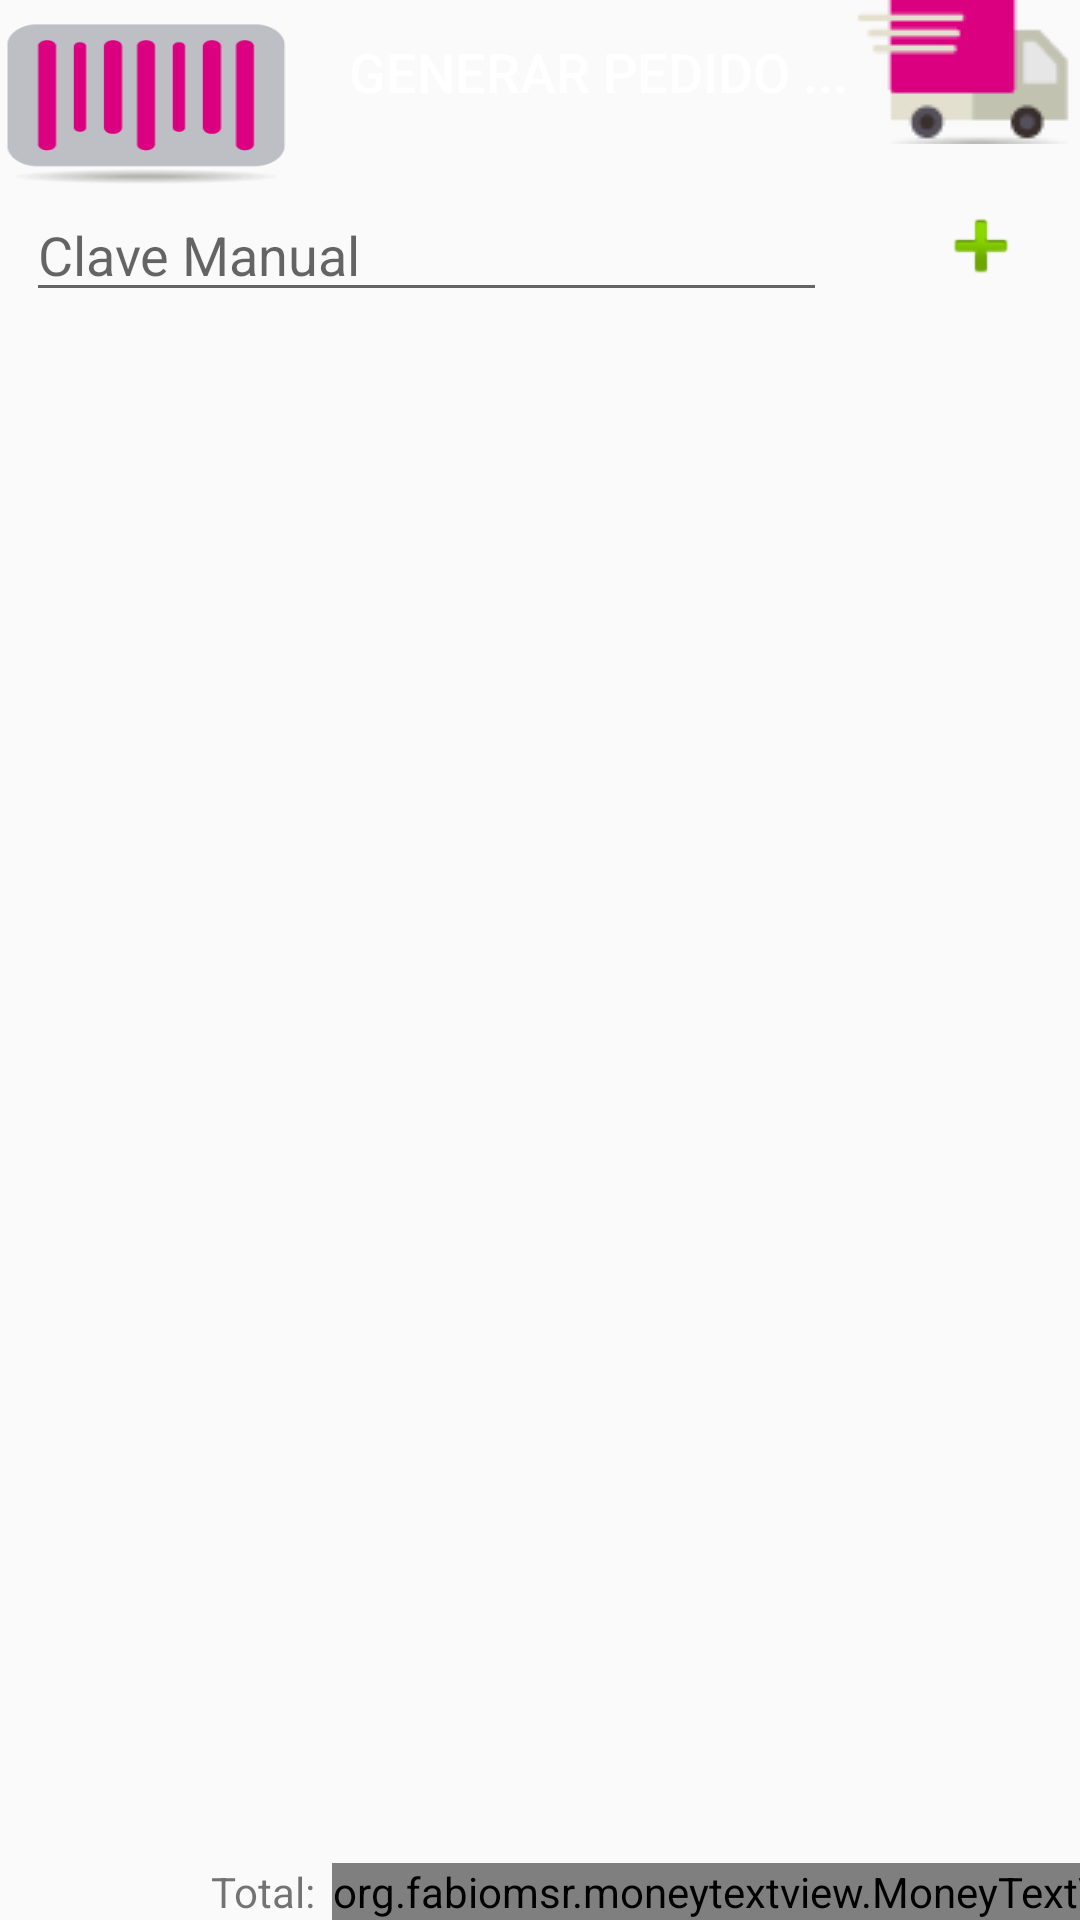

Icon click points for this 1080*1920 phone screenshot, format point (x, y):
escanerg: point (146, 103)
